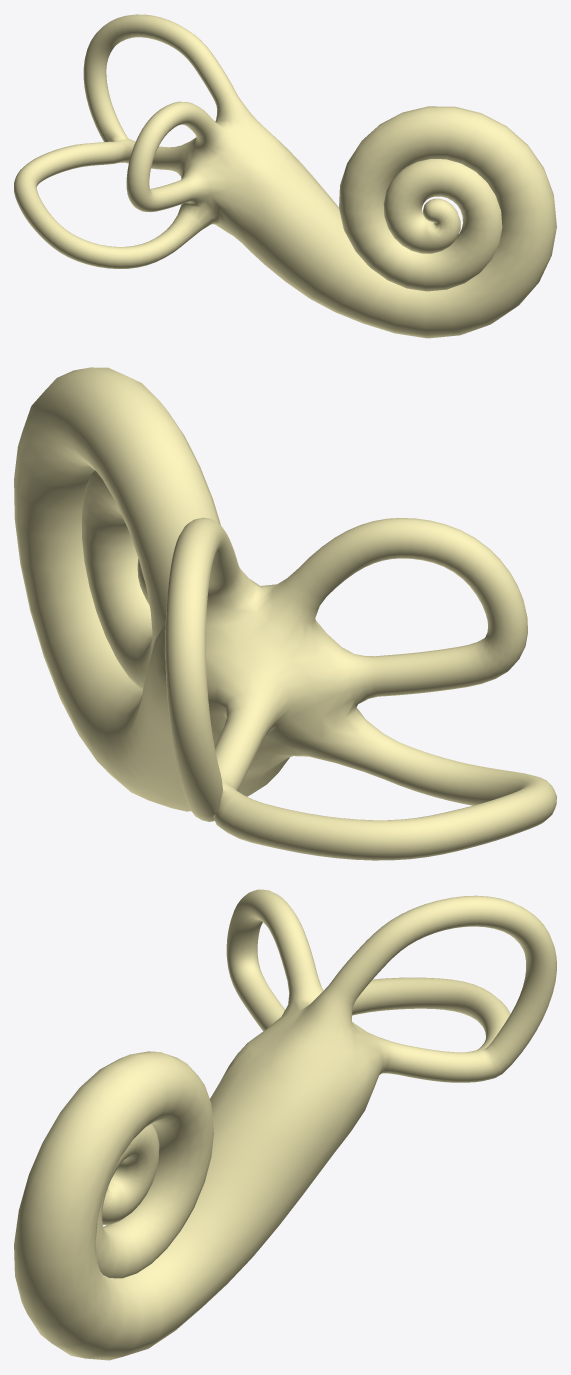
Rendered from app_vestibulaire_submesh.FBX.
3 views of the same model, one above another, from view 1: azimuth 30°, elevation 25°; view 2: azimuth 150°, elevation 25°; view 3: azimuth 270°, elevation 25° (orthographic). The views are drawn at different scales.
Parts seen in each view (by area): view 1: Cochlee; view 2: Cochlee; view 3: Cochlee.
Part boxes in pixels (left/top/right/bottom): Cochlee: left=14, top=14, right=556, bottom=338; Cochlee: left=14, top=367, right=556, bottom=860; Cochlee: left=14, top=889, right=556, bottom=1360.
Size of the model in its own units: 3.42 by 2.14 by 2.97.
